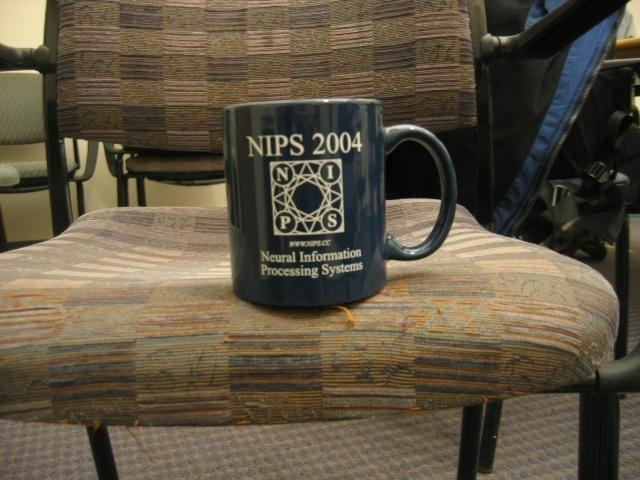cup-handle: (221, 96, 459, 314)
